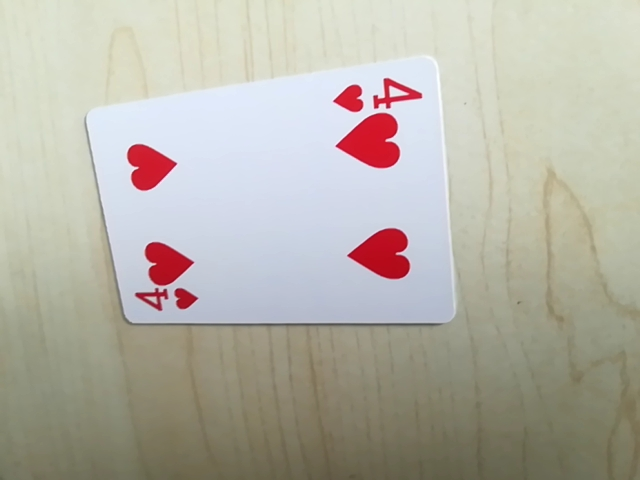hx 4: (330, 69, 423, 117), (127, 286, 200, 320)
